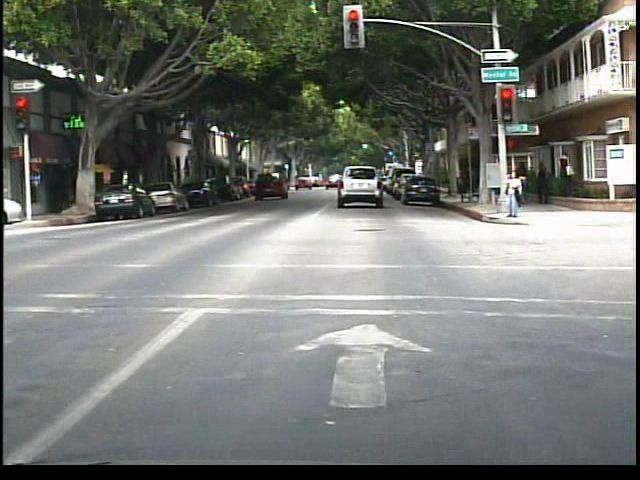person: (498, 168, 524, 221), (555, 149, 577, 198), (531, 157, 551, 209), (516, 157, 530, 184)
